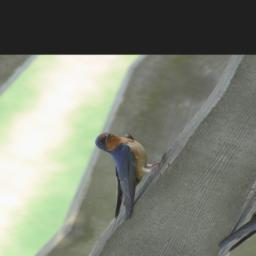Swallow: (45, 125, 179, 235)
